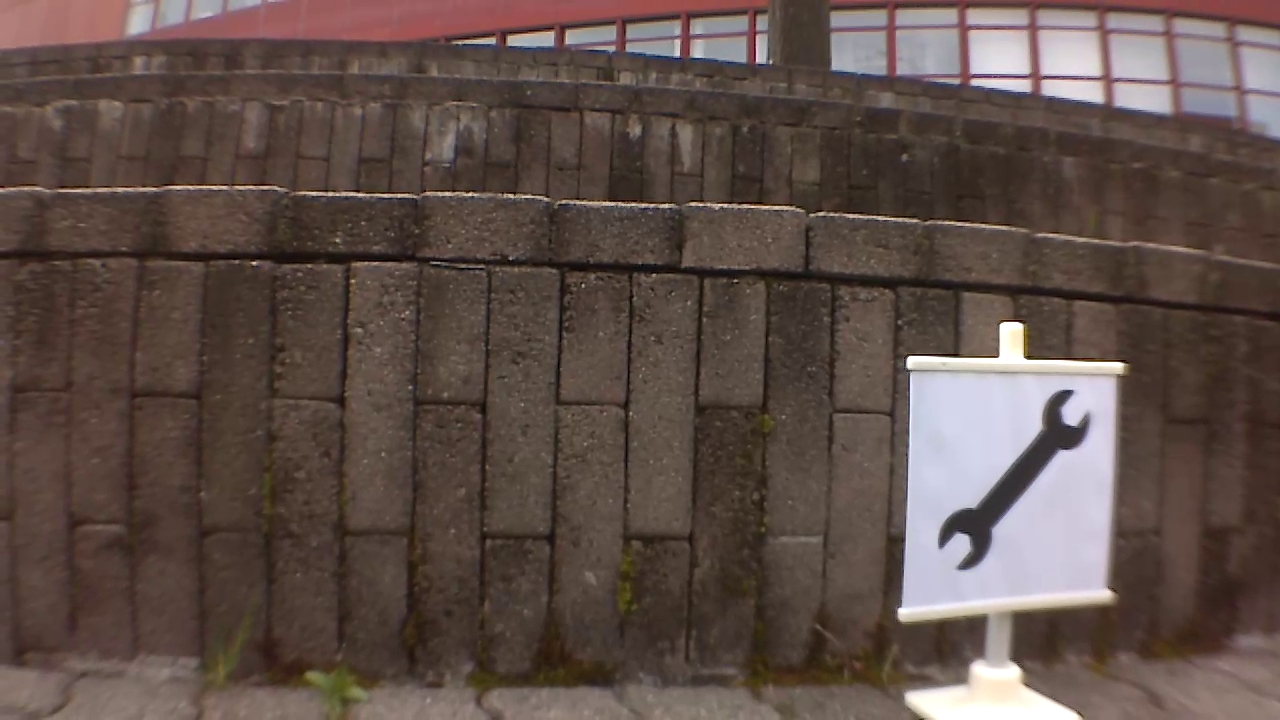wrench: (933, 392, 1091, 570)
